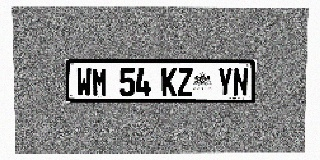4: (135, 68, 151, 97)
5: (120, 68, 135, 97)
K: (162, 68, 177, 96)
M: (92, 68, 108, 97)
N: (233, 68, 248, 96)
W: (76, 68, 92, 97)
Y: (217, 68, 233, 96)
Z: (177, 68, 193, 96)
